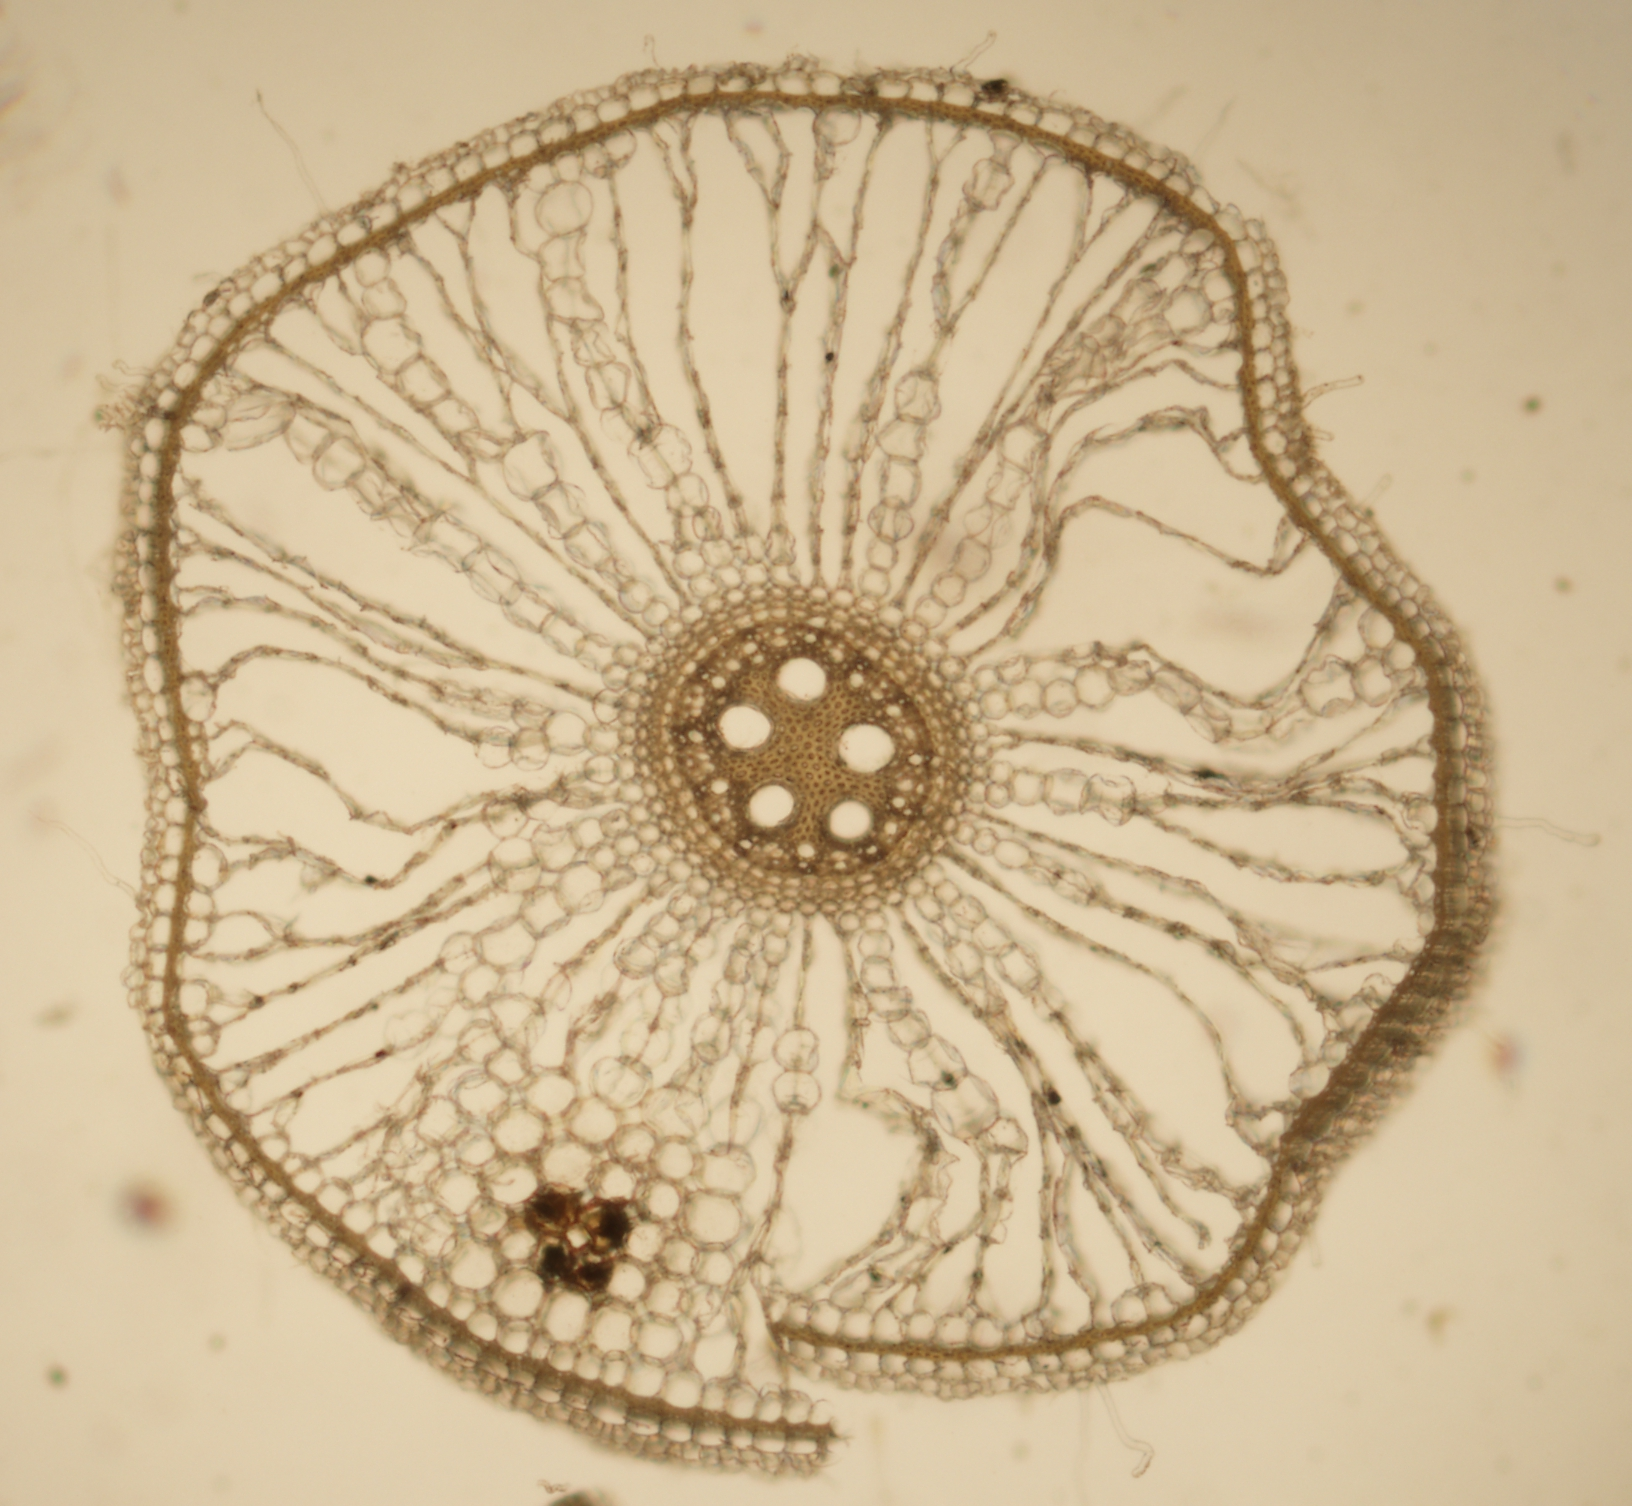lm: (839, 722, 896, 774), (719, 705, 771, 748), (778, 657, 826, 701), (746, 784, 795, 828), (827, 799, 873, 839)
